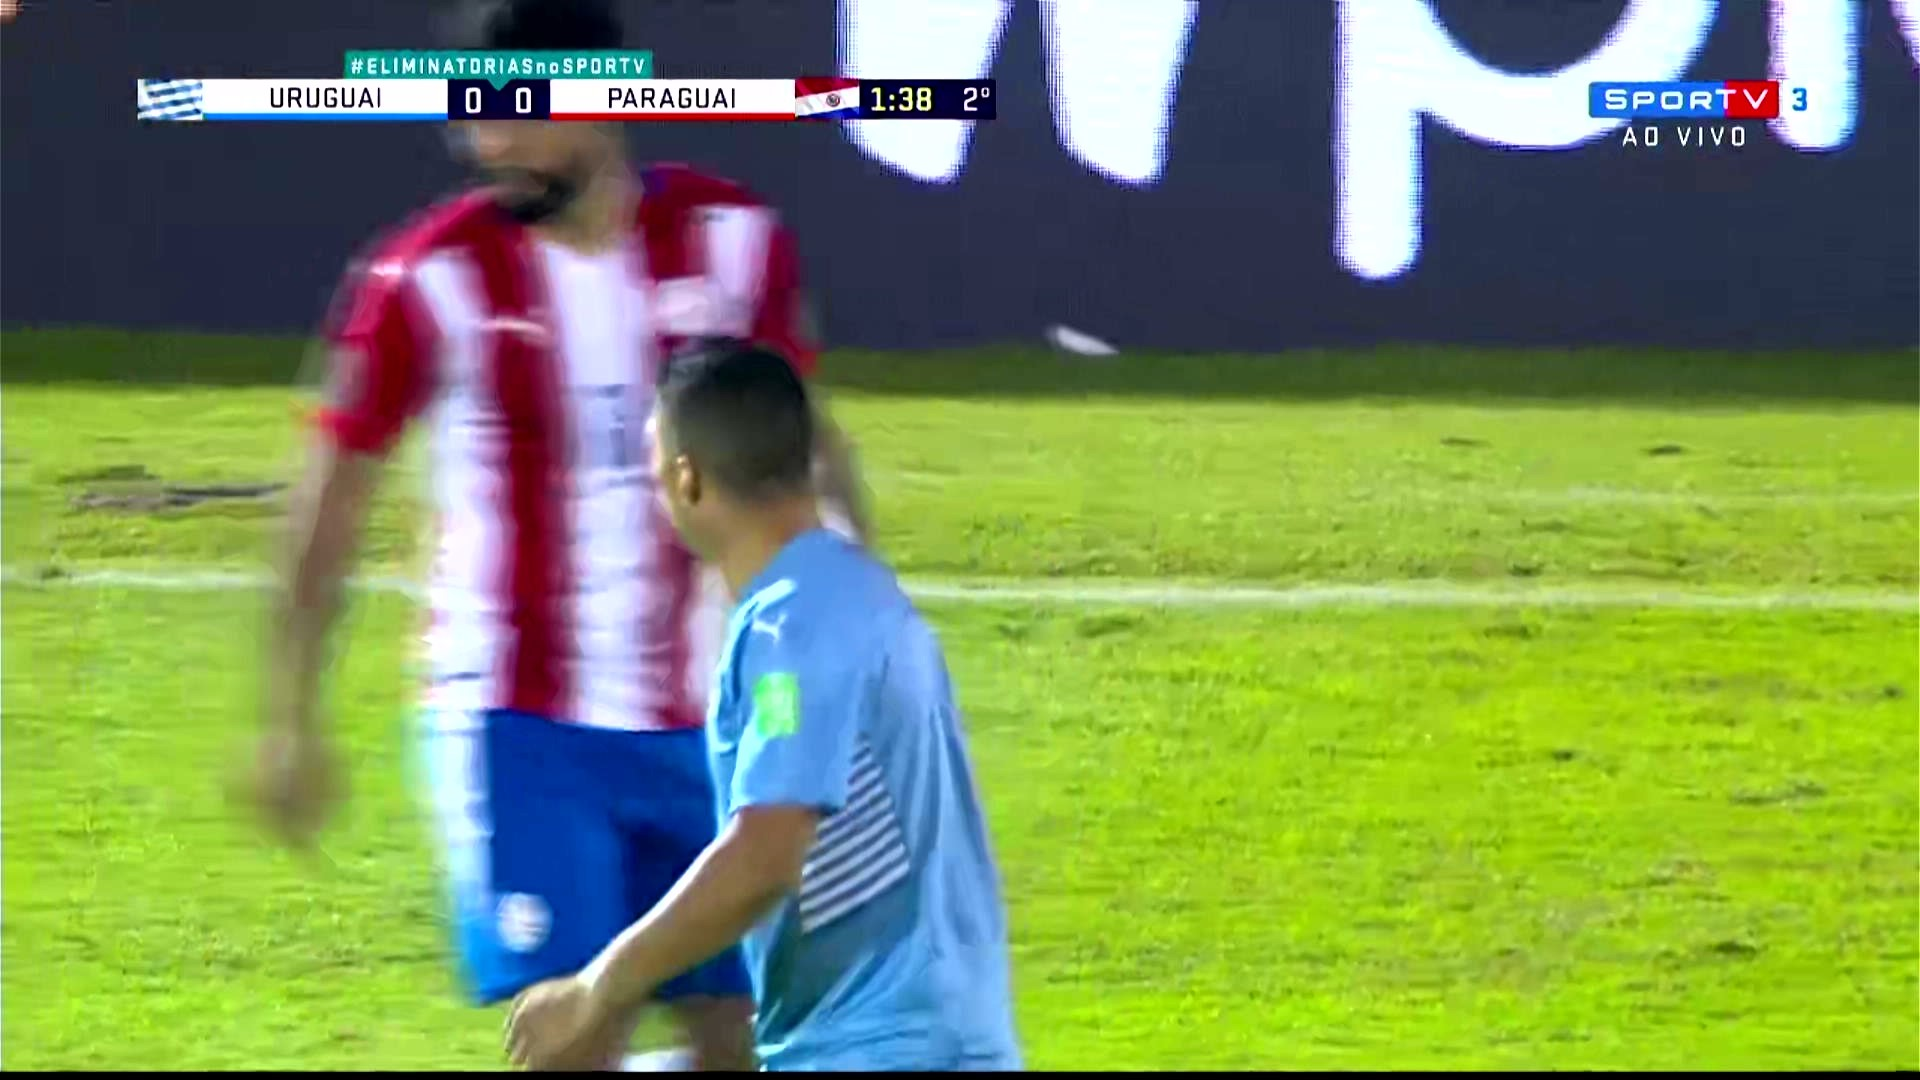SporTV3: (1589, 84, 1818, 115)
